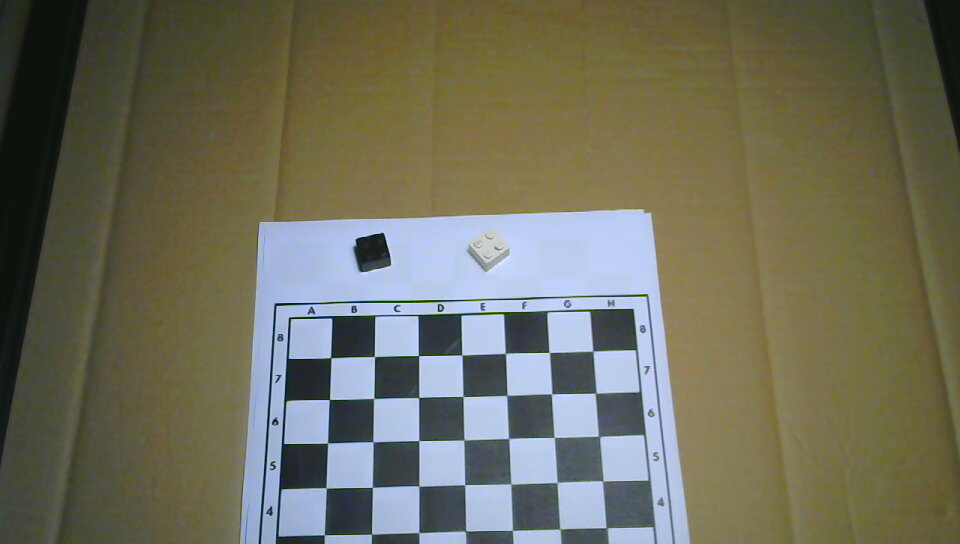bp: (353, 232, 392, 274)
wp: (467, 229, 509, 273)
